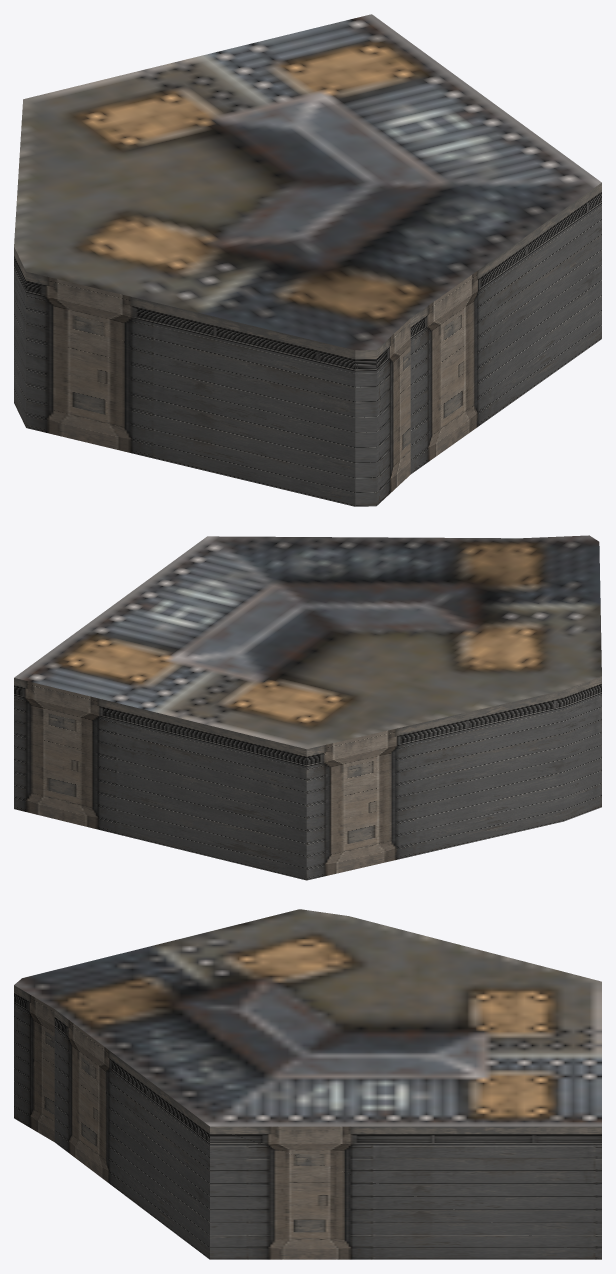
The model's file is hangar_hard_a_49.glb.
The picture shows the model from 3 angles, top to bottom: view 1: azimuth 30°, elevation 25°; view 2: azimuth 150°, elevation 25°; view 3: azimuth 270°, elevation 25°; orthographic projection. The views are drawn at different scales.
Parts seen in each view (by area): view 1: buildings/saxarba/hangar_hard/hangar_hard_a_49; view 2: buildings/saxarba/hangar_hard/hangar_hard_a_49; view 3: buildings/saxarba/hangar_hard/hangar_hard_a_49.
Part boxes in pixels (x1,y1,x2,y2): buildings/saxarba/hangar_hard/hangar_hard_a_49: [14, 14, 601, 506]; buildings/saxarba/hangar_hard/hangar_hard_a_49: [14, 535, 601, 880]; buildings/saxarba/hangar_hard/hangar_hard_a_49: [14, 909, 601, 1259].
Bounding box in the file's own units: 63 × 18 × 72.
